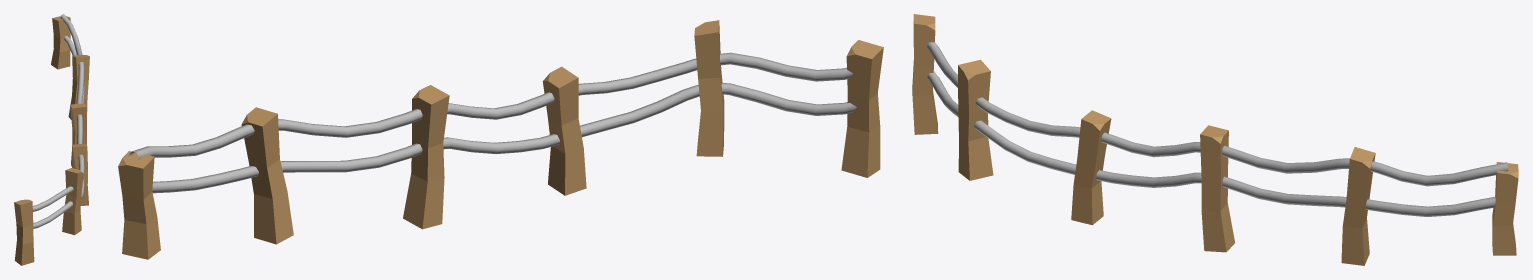
The model's file is Fence.fbx.
3 renders of one model, left to right at view 1: azimuth 30°, elevation 25°; view 2: azimuth 150°, elevation 25°; view 3: azimuth 270°, elevation 25°, orthographic. The views are drawn at different scales.
Parts seen in each view (by area): view 1: Fence; view 2: Fence; view 3: Fence.
Part boxes in pixels (<box>): Fence: <box>14,14,89,265</box>; Fence: <box>118,20,883,259</box>; Fence: <box>912,14,1518,265</box>.
Bounding box in the file's own units: 412 × 146 × 565.
